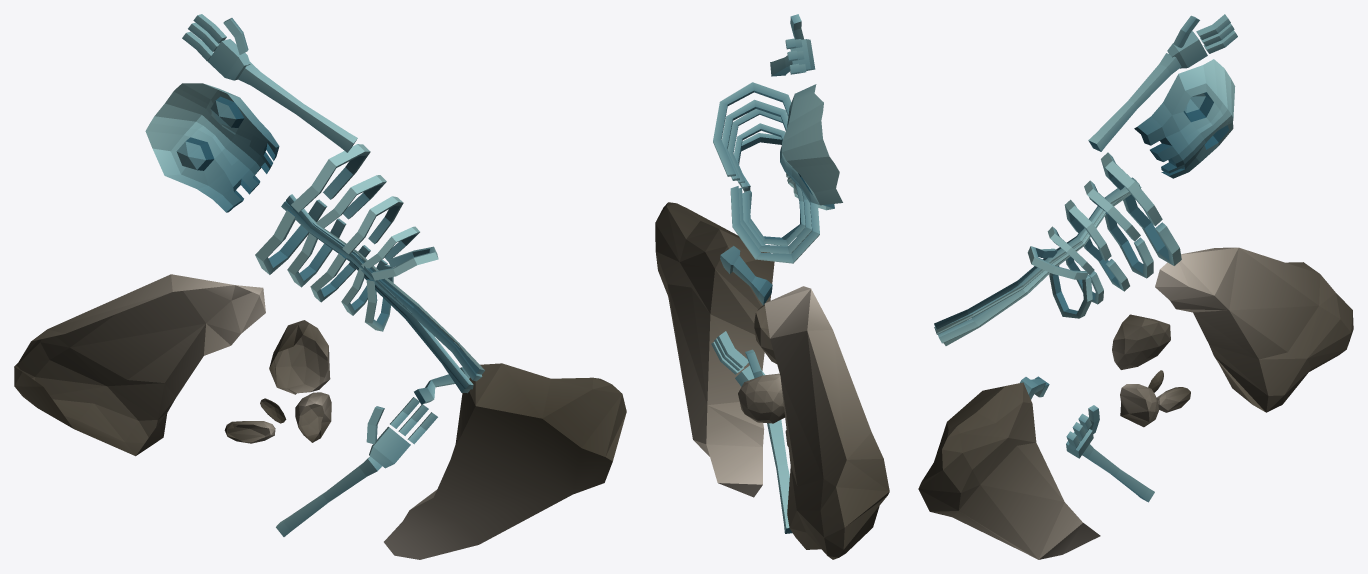
Rendered from Decorado14.Prop.14.fbx.
3 views of the same model, side by side, from view 1: azimuth 30°, elevation 25°; view 2: azimuth 150°, elevation 25°; view 3: azimuth 270°, elevation 25° (orthographic). The views are drawn at different scales.
Visible parts, largest first — view 1: Circle; view 2: Circle; view 3: Circle.
Part boxes in pixels (x1,y1,x2,y2): Circle: [14, 14, 626, 559]; Circle: [655, 14, 889, 559]; Circle: [918, 14, 1353, 559].
Size of the model in its own units: 296 by 356 by 290.
